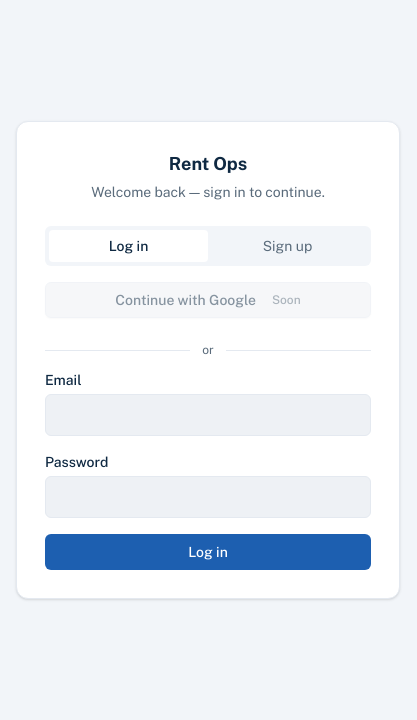
Scenario: auth card toggle › blocks submission and reports a too-short password
Click the button with aria-label "Switch to sign up": click(288, 246) 208,230 -> 367,262
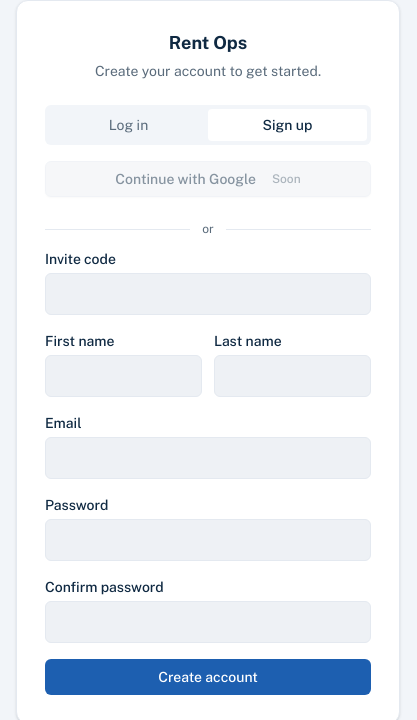
In the field labelled "Invite code": (208, 294) 45,273 -> 371,315, type "the-code"
In the field labelled "Email": (208, 458) 45,437 -> 371,479, type "ada@example.com"
In the password field labelled "Password": (208, 540) 45,519 -> 371,561, type "short"
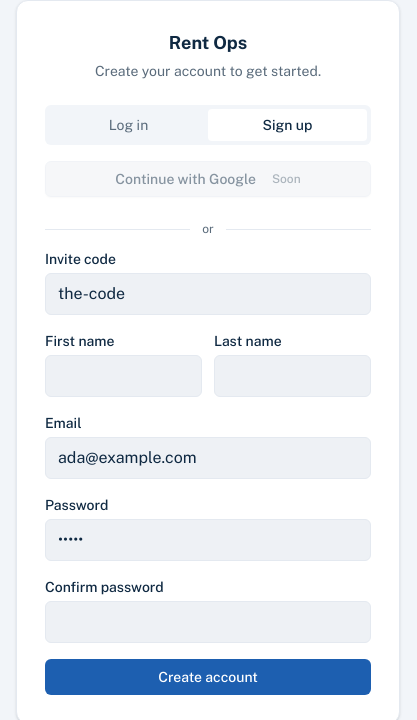
In the password field labelled "Confirm password": (208, 622) 45,601 -> 371,643, type "short"
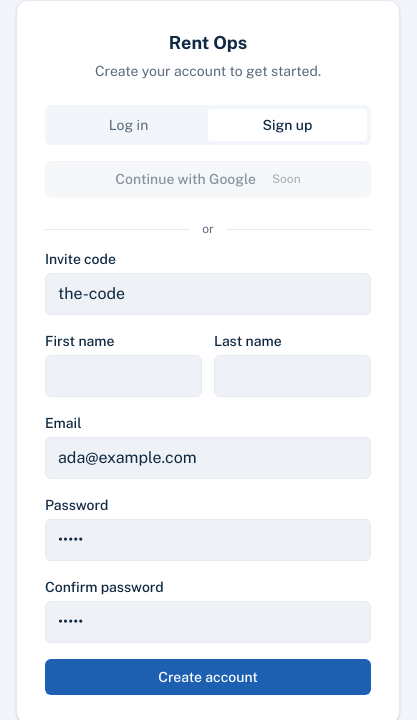
In the field labelled "First name": (124, 376) 45,355 -> 202,397, type "Ada"
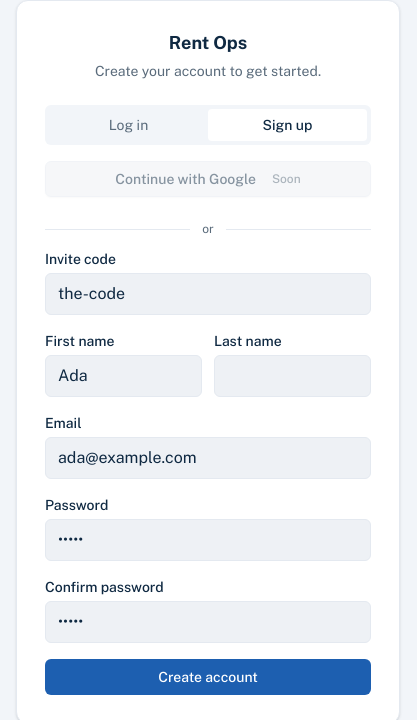
In the field labelled "Last name": (292, 376) 214,355 -> 371,397, type "Lovelace"
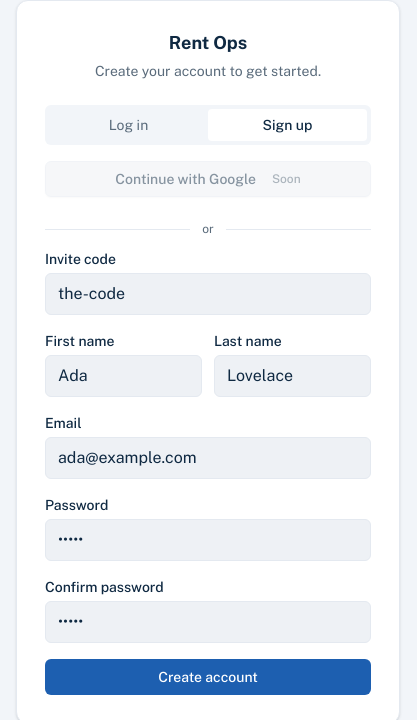
Click the button "Create account": click(208, 677) 45,659 -> 371,695
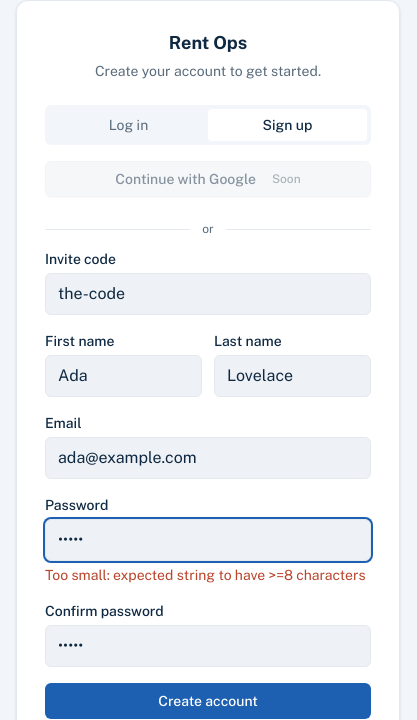
Check: the text "Too small: expected string to have >=8 characters" is shown, box 45,565 -> 371,585
